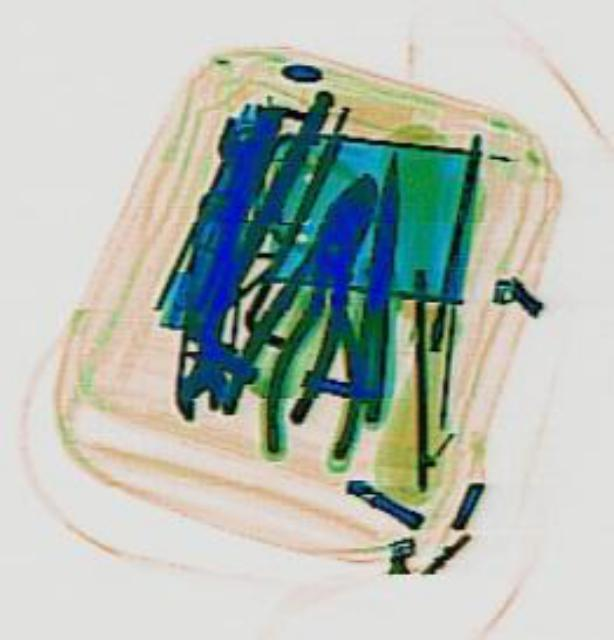Pliers: (208, 154, 408, 440), (252, 215, 386, 460)
Wrench: (168, 193, 235, 419), (209, 111, 268, 217)
